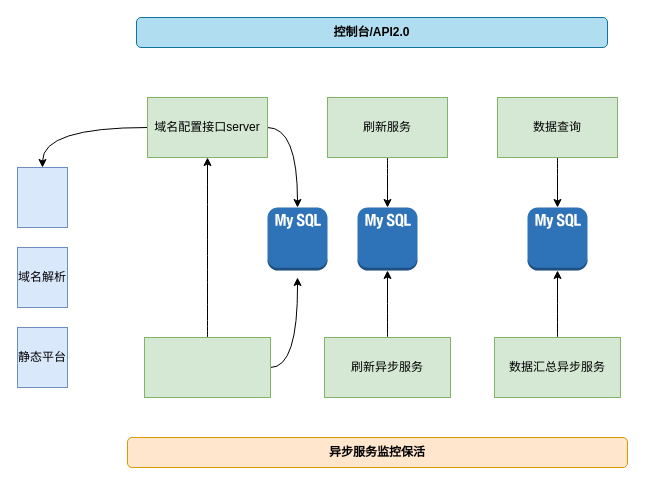
Some shapes in this 645 by 485 pixel diagram are drawn without their labels. The centre of each missing label's shape, as x and y in pixels:
"动态平台" goes at (x=42, y=197).
"配置异步服务" goes at (x=207, y=367).
